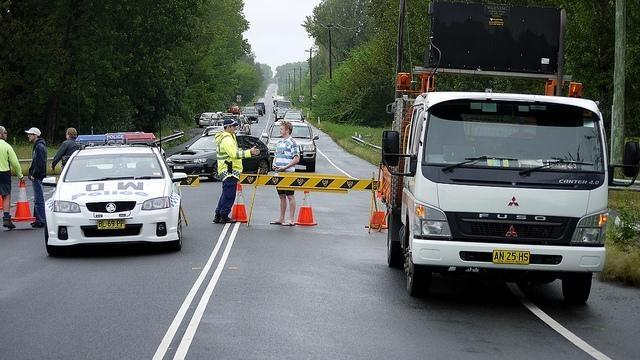car: (46, 132, 182, 253), (166, 120, 322, 181), (209, 112, 238, 127), (238, 105, 260, 124), (194, 112, 216, 126), (282, 109, 304, 122), (253, 102, 266, 116)
truck: (376, 66, 638, 305)
